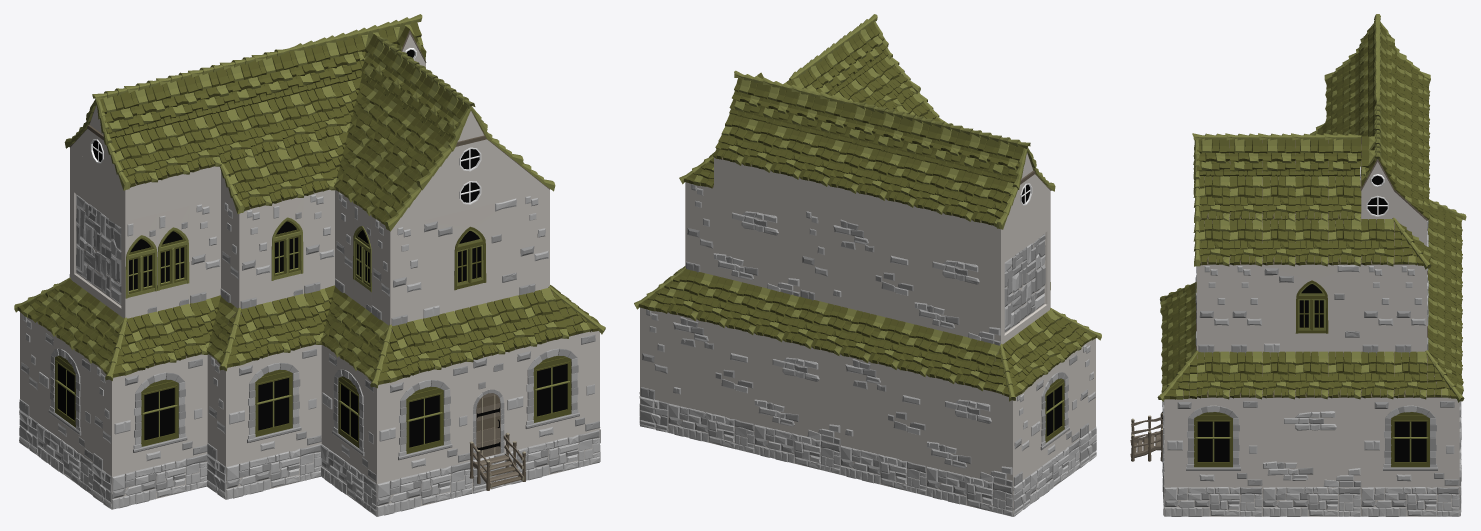
Rendered from HOUSE_9.fbx.
3 renders of one model, left to right at view 1: azimuth 30°, elevation 25°; view 2: azimuth 150°, elevation 25°; view 3: azimuth 270°, elevation 25°, orthographic. The views are drawn at different scales.
Visible parts, largest first — view 1: WINDOW_05_11, WINDOW_05_10, WINDOW_05_14, WINDOW_05_12, WINDOW_02_2, WALL_02_2, WINDOW_05_15, WINDOW_05_13, FOUNDATION_03_6, FOUNDATION_03_5, WINDOW_01_02, WALL_06_15 (+80 smaller); view 2: WALL_03_5, WALL_01_5, WALL_03_4, WALL_01_4, WALL_01_6, WALL_03_8, WALL_03_7, WINDOW_05_15, WALL_02_2, FOUNDATION_03_11, FOUNDATION_03_10, FOUNDATION_03_9 (+65 smaller); view 3: WALL_03_6, WINDOW_05_16, WINDOW_05_17, WINDOW_02_3, FOUNDATION_03_13, FOUNDATION_03_14, FOUNDATION_03_12, WALL_06_21, WALL_06_20, WALL_06_19, WALL_06_22, ROOF_BASE_20 (+60 smaller).
Part boxes in pixels (x1,y1,x2,y2): WINDOW_05_11: [226, 344, 321, 465]; WINDOW_05_10: [112, 354, 207, 476]; WINDOW_05_14: [504, 331, 600, 452]; WINDOW_05_12: [377, 361, 472, 483]; WINDOW_02_2: [422, 197, 517, 318]; WALL_02_2: [70, 181, 128, 318]; WINDOW_05_15: [38, 324, 93, 462]; WINDOW_05_13: [321, 345, 378, 483]; FOUNDATION_03_6: [112, 453, 207, 509]; FOUNDATION_03_5: [226, 443, 321, 499]; WINDOW_01_02: [157, 206, 189, 311]; WALL_06_15: [390, 221, 422, 325]; WALL_03_5: [754, 334, 840, 444]; WALL_01_5: [668, 313, 754, 423]; WALL_03_4: [927, 376, 1013, 486]; WALL_01_4: [841, 355, 926, 465]; WALL_01_6: [828, 215, 914, 324]; WALL_03_8: [914, 236, 1001, 345]; WALL_03_7: [713, 187, 799, 296]; WINDOW_05_15: [1029, 350, 1079, 474]; WALL_02_2: [1001, 221, 1050, 344]; FOUNDATION_03_11: [668, 403, 754, 453]; FOUNDATION_03_10: [754, 424, 840, 474]; FOUNDATION_03_9: [840, 445, 926, 495]; WALL_03_6: [1262, 397, 1361, 486]; WINDOW_05_16: [1361, 397, 1459, 486]; WINDOW_05_17: [1164, 397, 1262, 486]; WINDOW_02_3: [1262, 264, 1361, 352]; FOUNDATION_03_13: [1262, 487, 1361, 516]; FOUNDATION_03_14: [1164, 487, 1262, 516]; FOUNDATION_03_12: [1361, 487, 1459, 516]; WALL_06_21: [1361, 264, 1393, 353]; WALL_06_20: [1230, 264, 1262, 353]; WALL_06_19: [1197, 264, 1229, 353]; WALL_06_22: [1394, 264, 1426, 353]; ROOF_BASE_20: [1295, 351, 1328, 399].
Bounding box in the file's own units: 1341 × 1123 × 1024.
